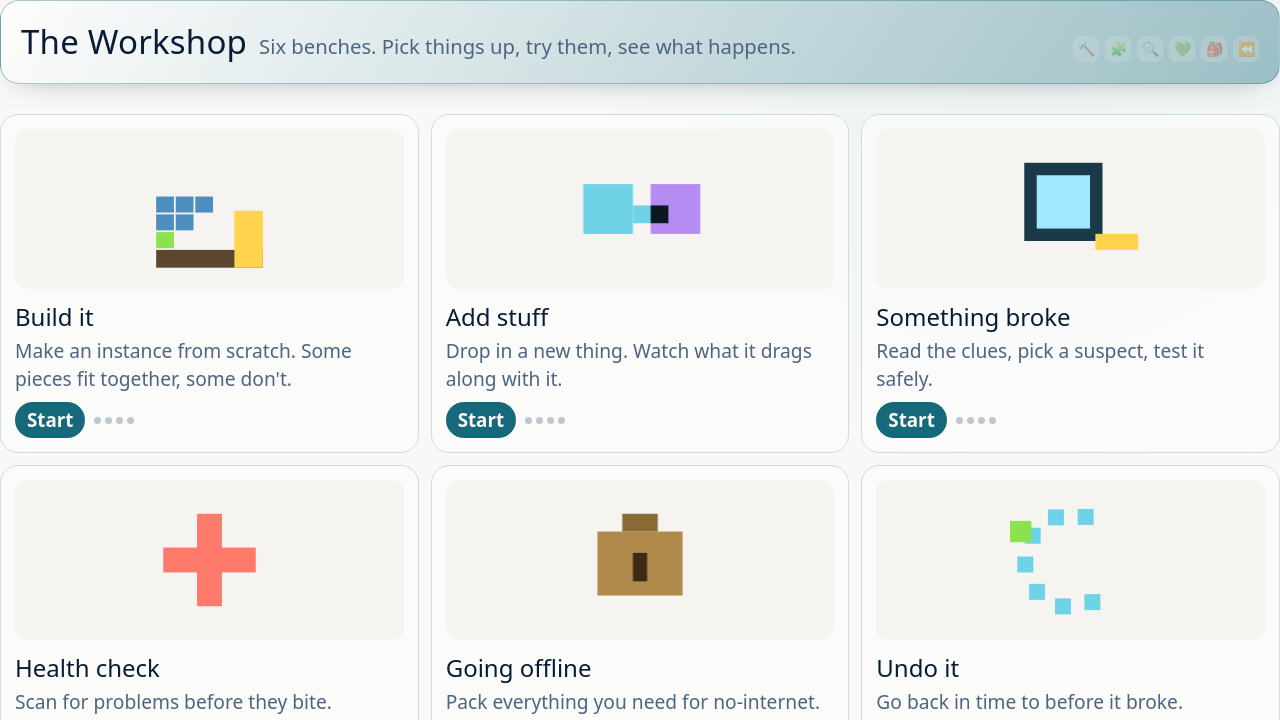
Workshop › never advances a step on its own — Next is always an explicit press
Click the heading "Build it": (54, 316) x1=15 y1=300 x2=94 y2=332
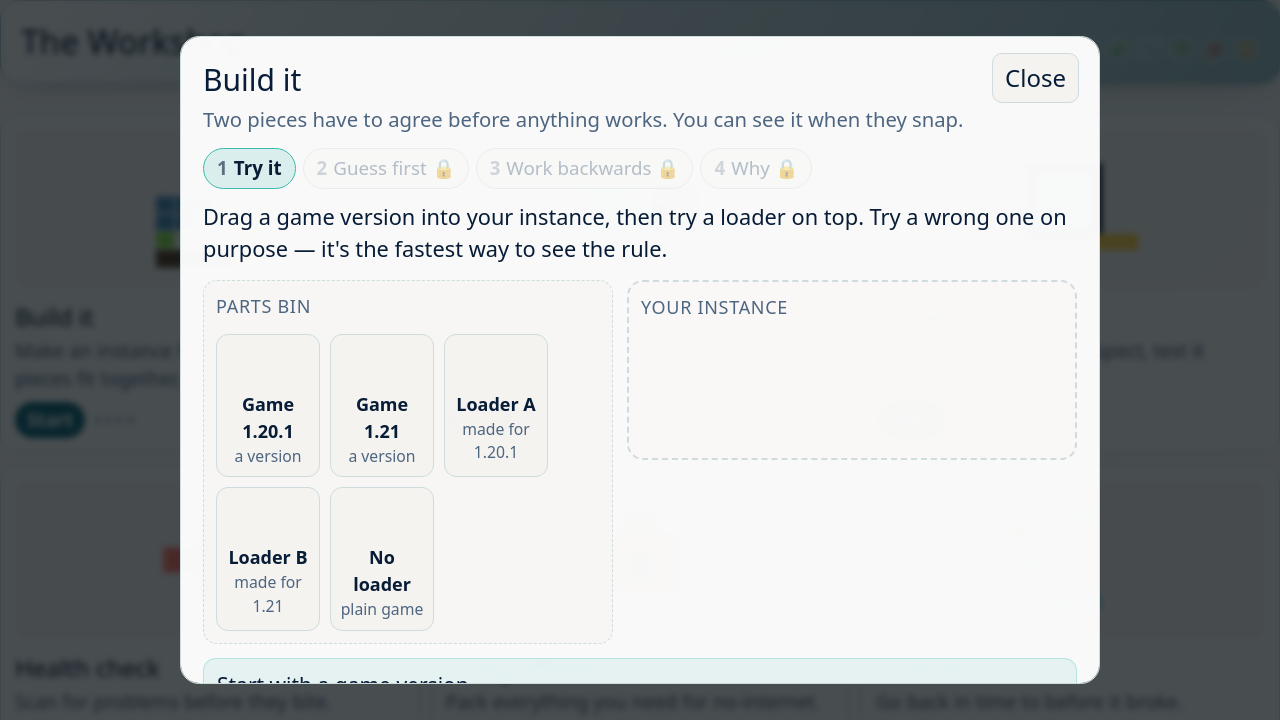
Press Enter in the element with class "ws-piece" showing "Game 1.20.1 a version", box x1=216 y1=334 x2=320 y2=477
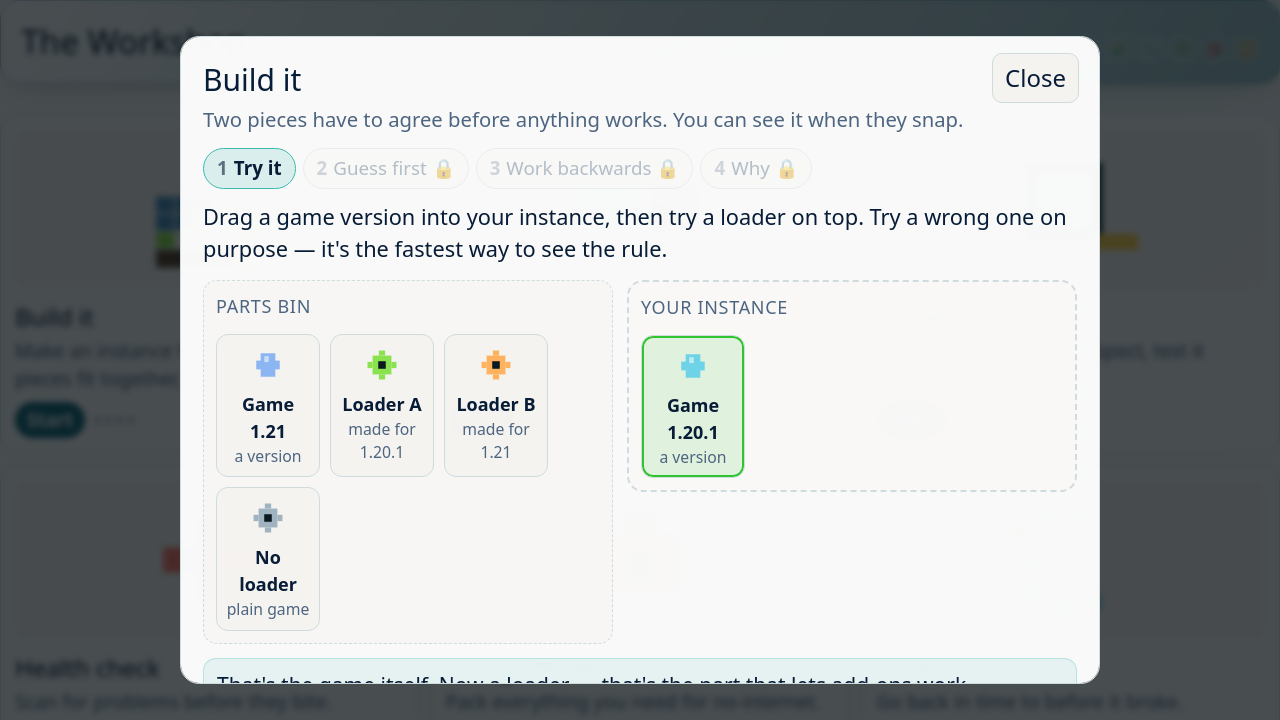
Press Enter in the element with class "ws-piece" showing "Loader A made for 1.20.1", box x1=330 y1=334 x2=434 y2=477
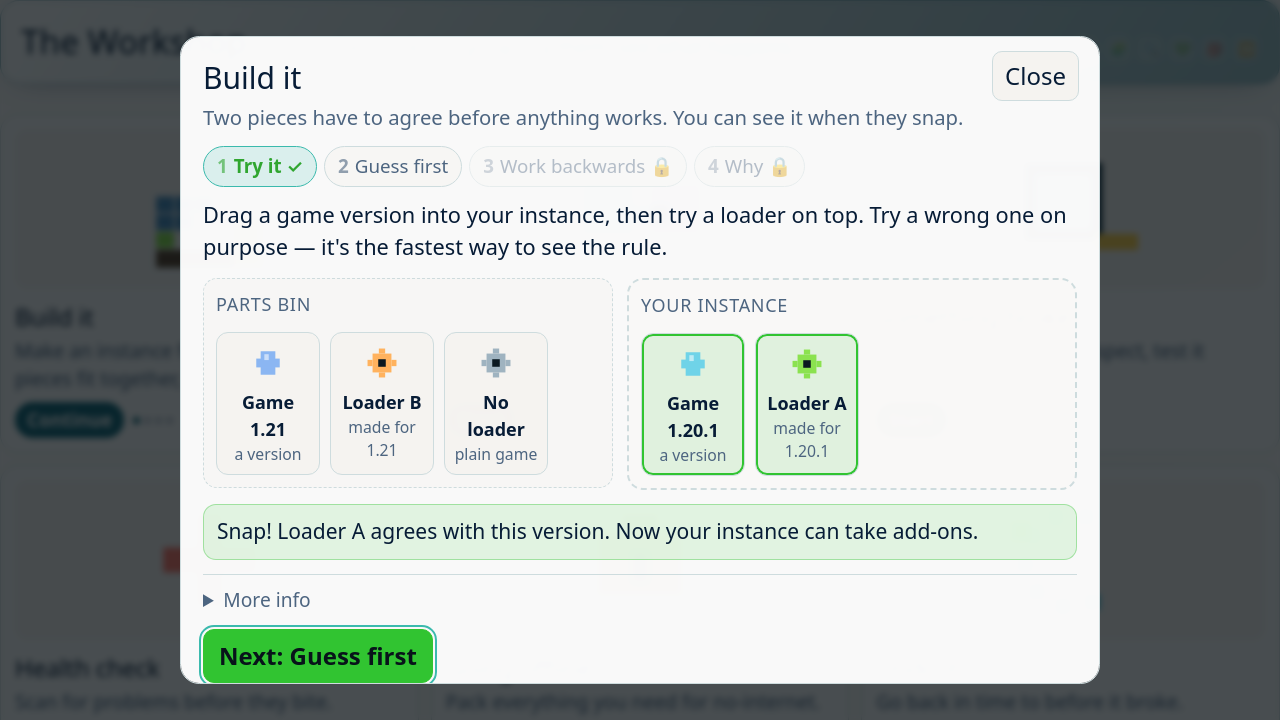
Expected: the text with class "ws-say" shows "can take add-ons", x1=217 y1=517 x2=978 y2=545
Expected: the button with class "ws-btn" is shown
Expected: the button with class "ws-btn" shows "Next:"
Click the button with class "ws-btn": (318, 656) x1=203 y1=629 x2=433 y2=683
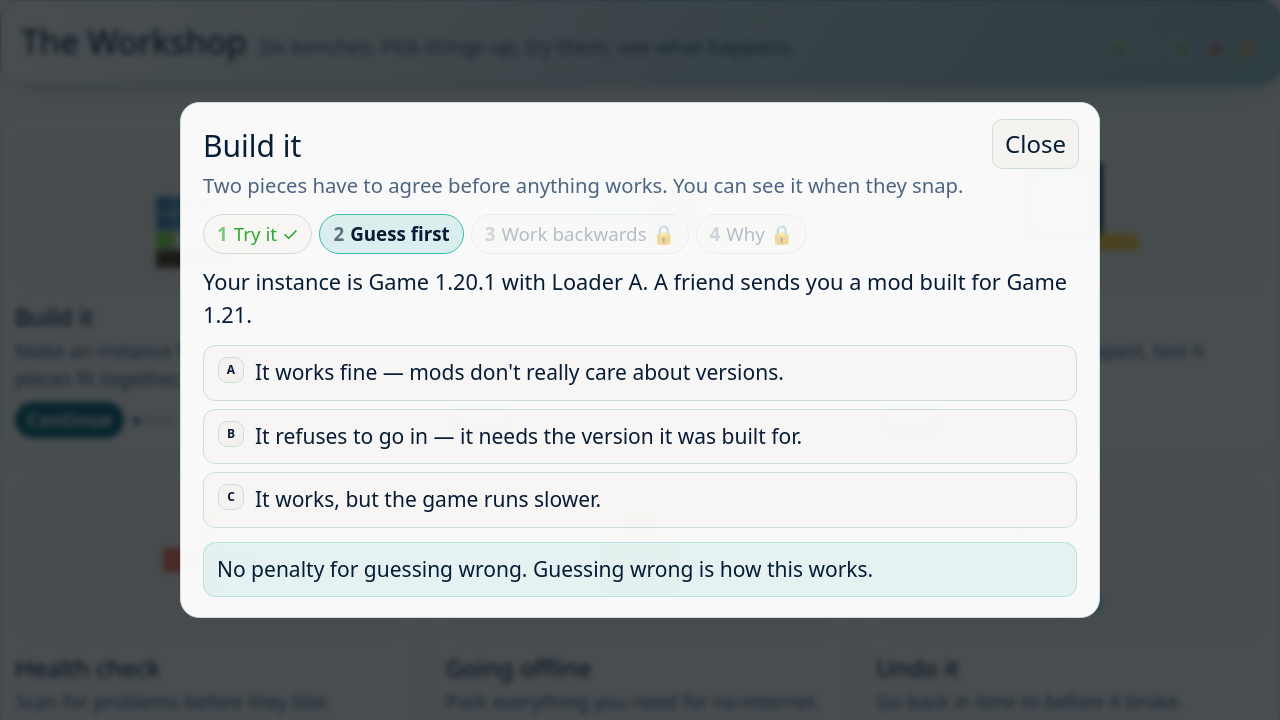
Expected: the text "It works fine — mods don't really care about versions." is shown
Click the text "It works fine — mods don't really care about versions.": (519, 373) x1=255 y1=357 x2=784 y2=389
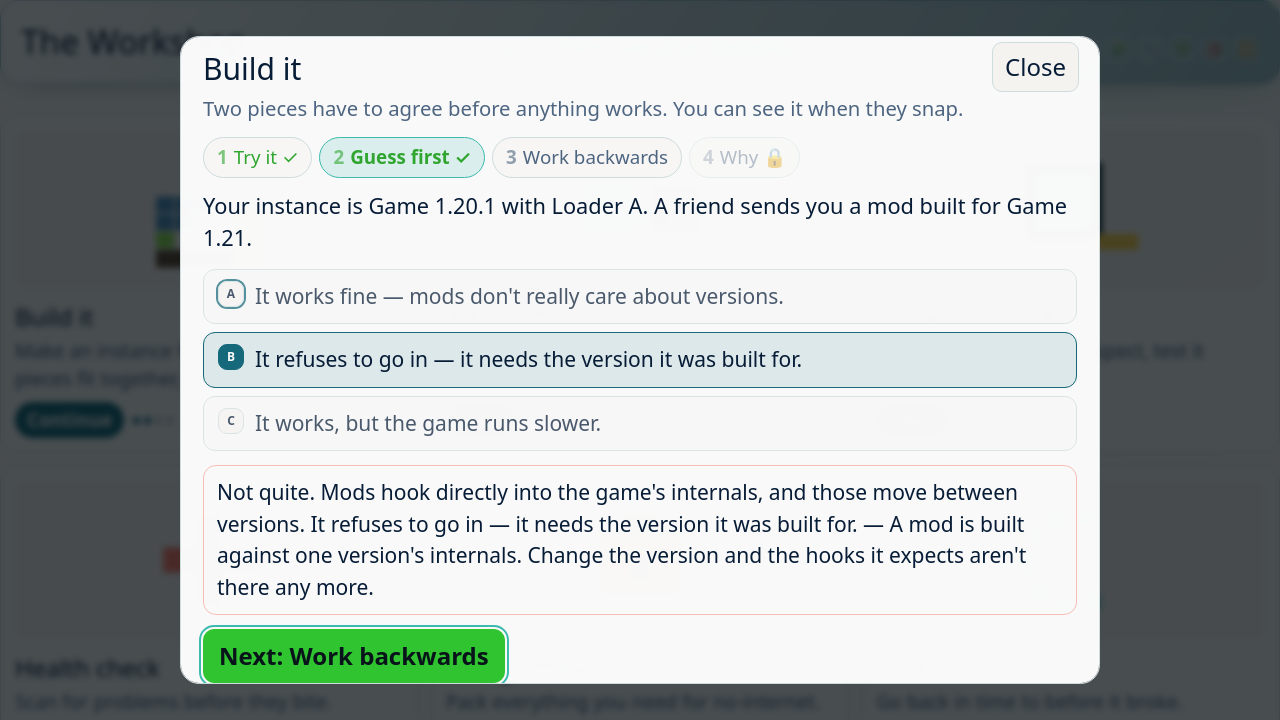
Expected: the number of buttons with class "ws-opt" is 3, x1=203 y1=269 x2=1077 y2=324; x1=203 y1=332 x2=1077 y2=388; x1=203 y1=396 x2=1077 y2=451
Expected: the button with class "ws-btn" is shown
Click the button with class "ws-btn": (354, 656) x1=203 y1=629 x2=505 y2=683
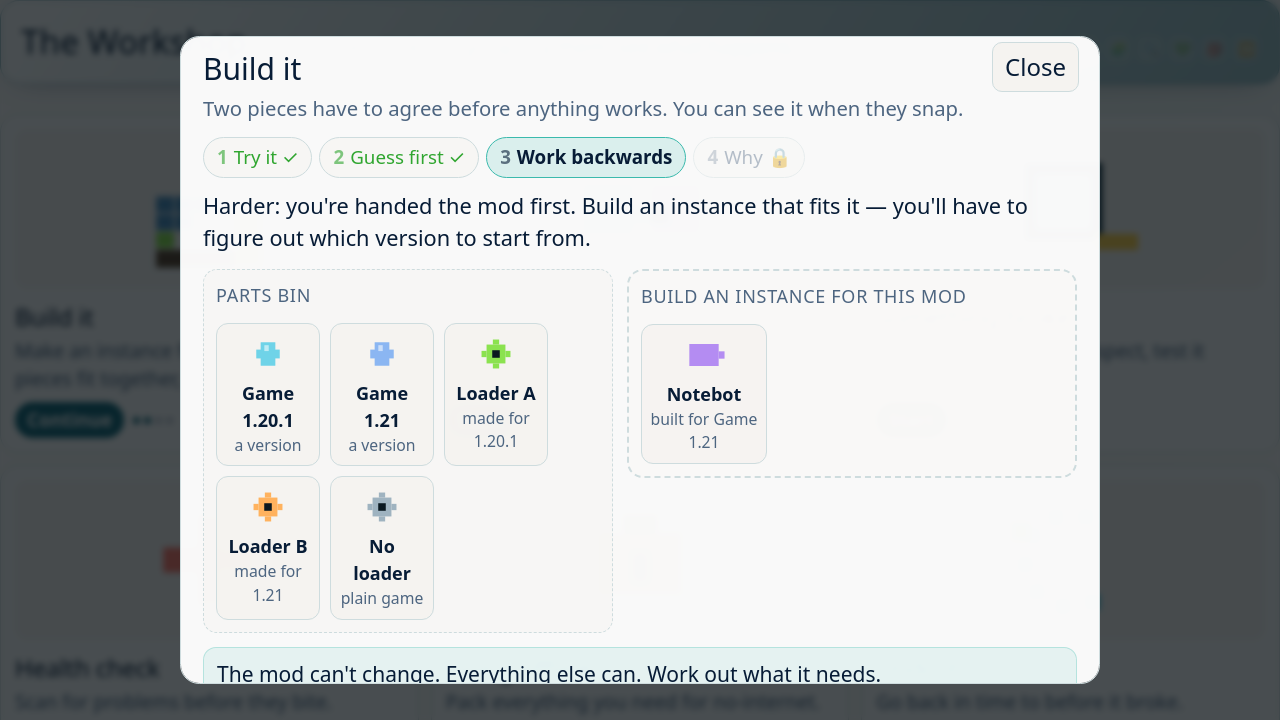
Expected: no buttons with class "ws-opt" are shown
